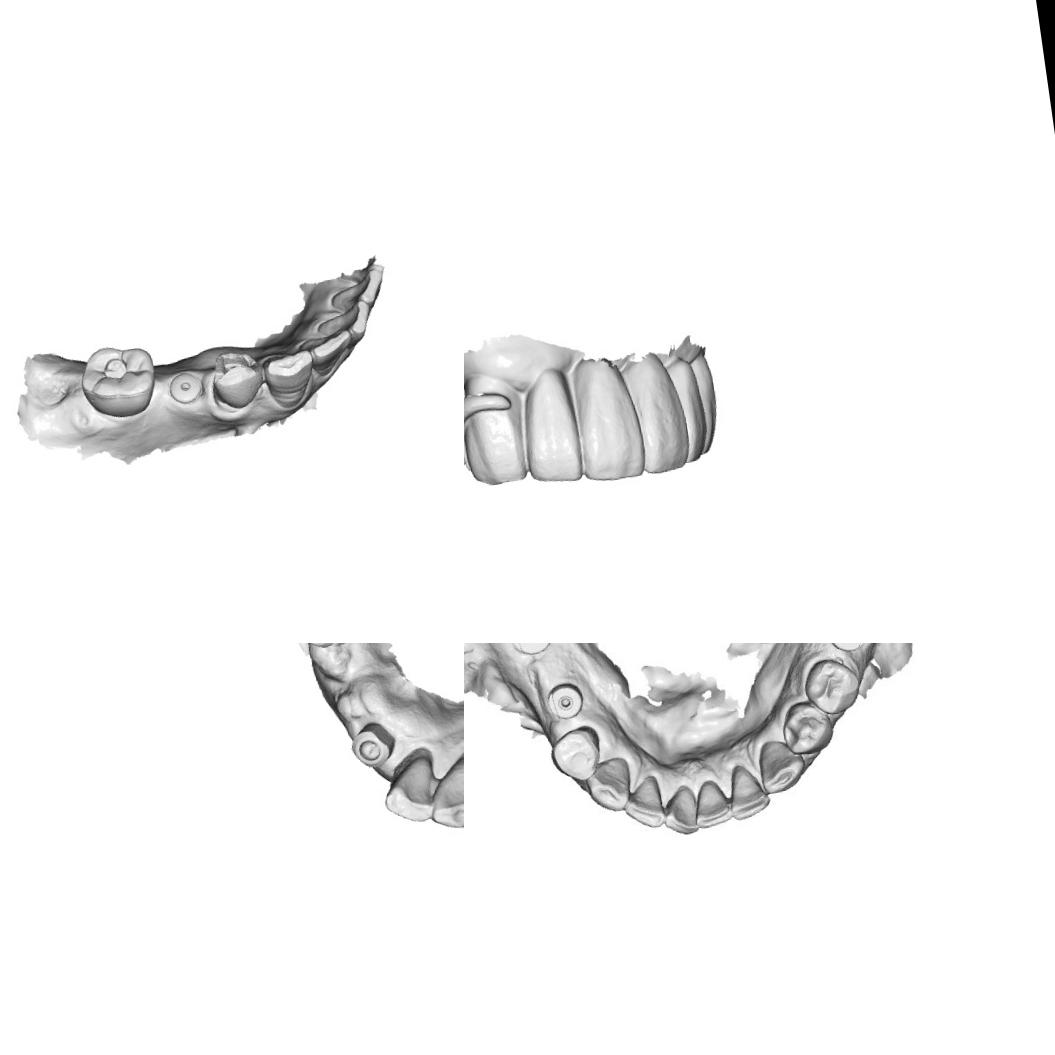canine: (261, 345, 320, 412), (753, 734, 808, 802), (423, 756, 464, 833), (582, 759, 632, 816)
implant: (346, 718, 397, 772), (542, 676, 585, 724), (166, 367, 206, 409), (821, 643, 875, 655), (294, 643, 345, 653), (508, 643, 553, 653)
incisor: (376, 752, 444, 830), (620, 772, 668, 834), (312, 296, 376, 342), (324, 266, 388, 310), (304, 326, 356, 378), (726, 766, 770, 822), (660, 781, 701, 837), (692, 779, 734, 833)
molar: (74, 339, 162, 424)
premolar: (800, 654, 866, 720), (204, 346, 266, 415), (546, 726, 602, 784), (777, 699, 833, 757)
